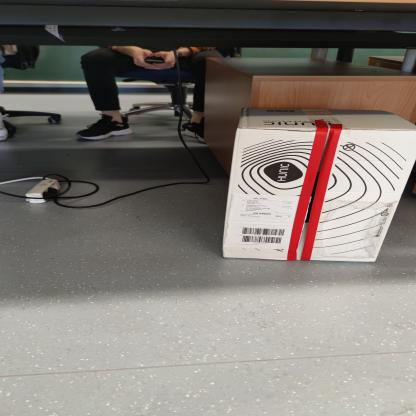box: (219, 92, 416, 288)
